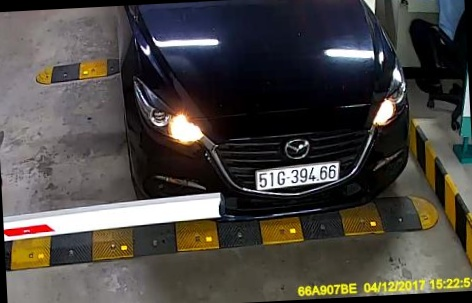plate: (243, 157, 346, 195)
